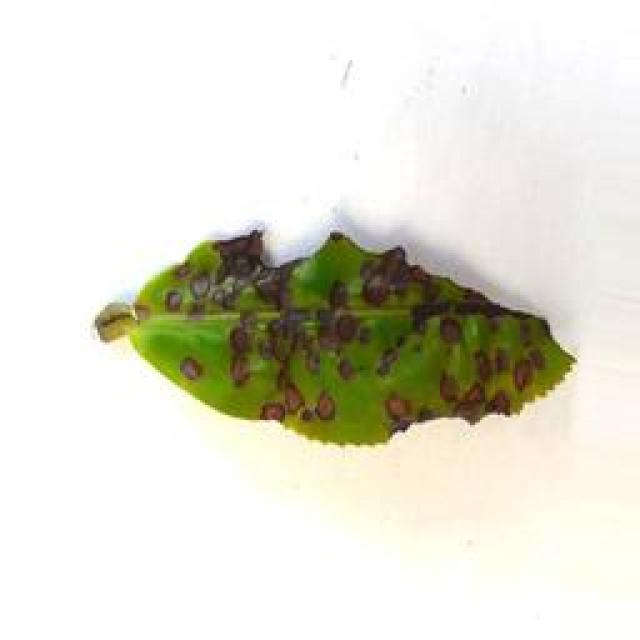Helopeltis: (83, 222, 592, 456)
